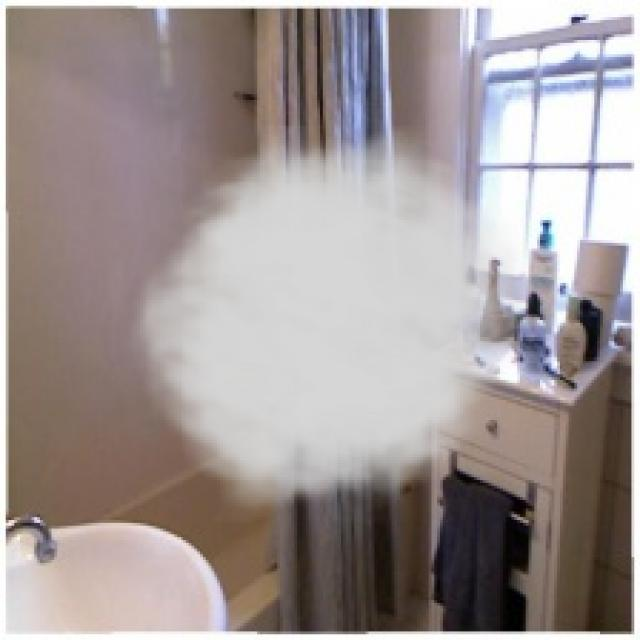Smoke: (117, 125, 543, 526)
